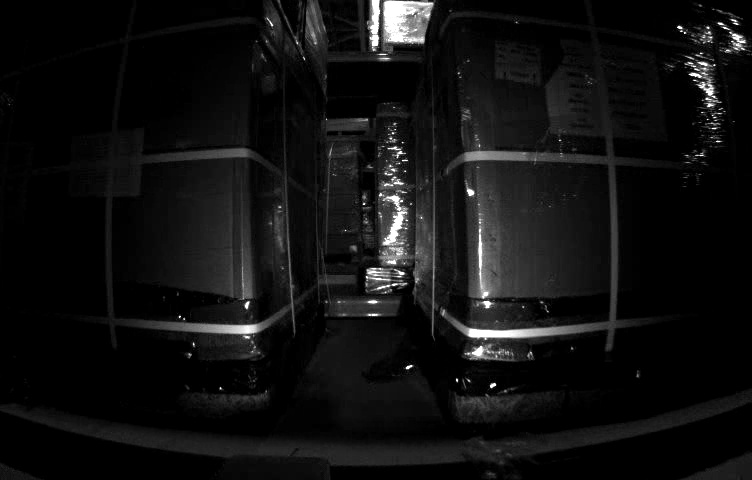True Barcode: (492, 39, 541, 85)
